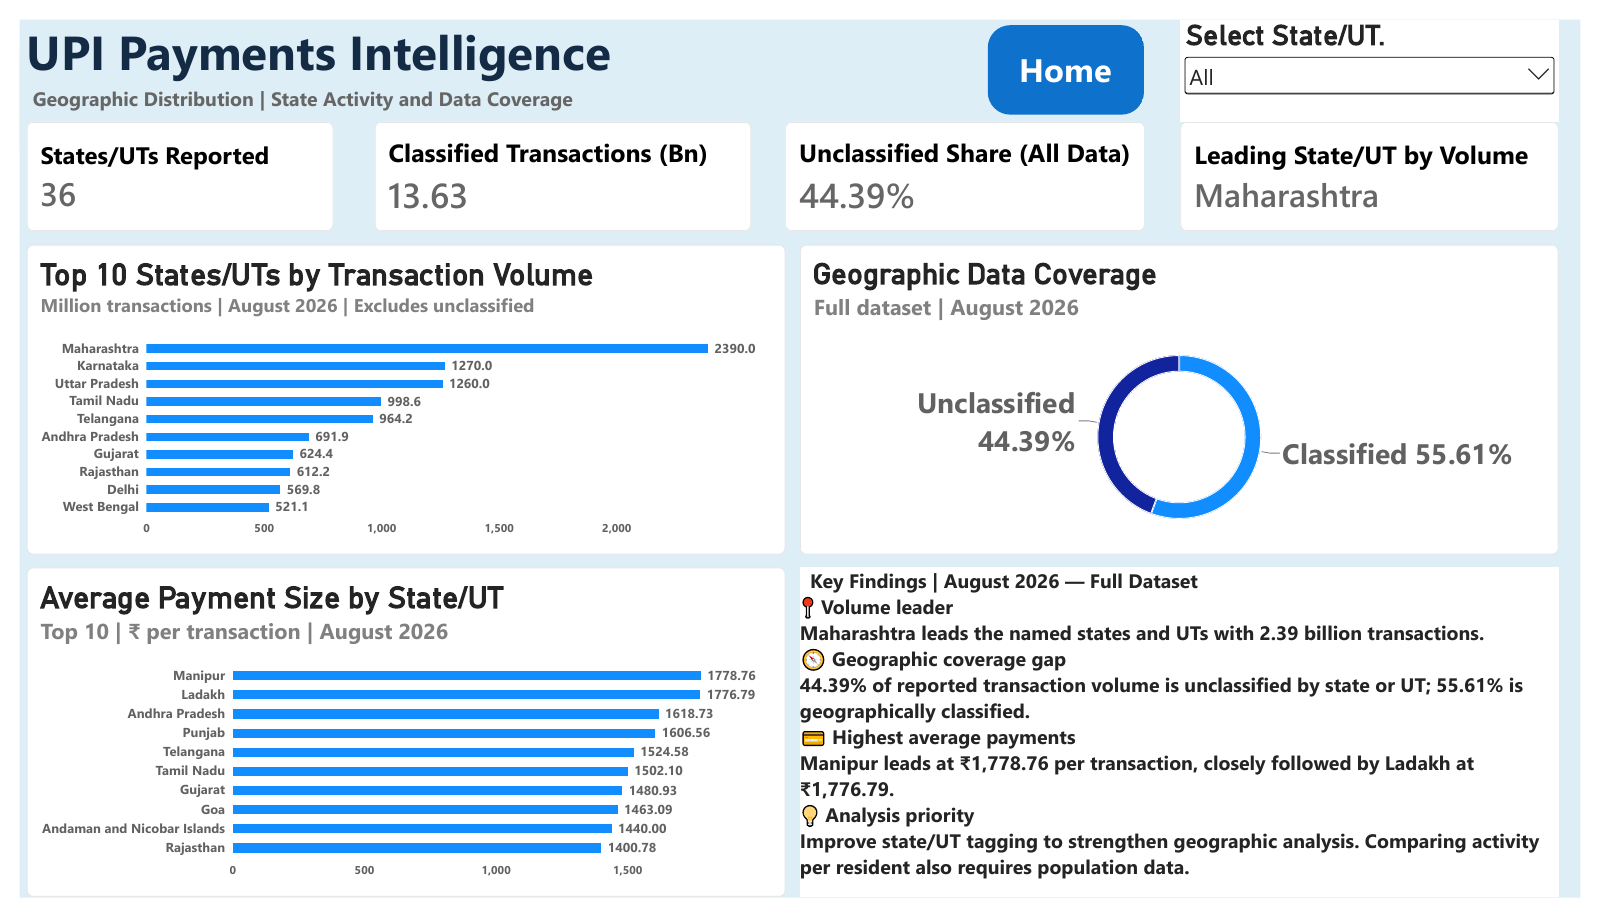

What the dashboard file says about the page in this screenshot:
{"tool":"powerbi","page":{"name":"Geographic Distribution","canvas":[1920,1080],"ordinal":4},"visuals":[{"type":"textbox","box":[9.4,0,806.5,159.4],"z":0},{"type":"clusteredBarChart","title":"Top 10 States/UTs by Transaction Volume","fields":{"Category":["fact_state.state"],"Y":["Sum(fact_state.volume_mn)"]},"box":[9.3,276.7,932.6,381.4],"z":1000},{"type":"donutChart","title":"Geographic Data Coverage","fields":{"Category":["fact_state.Geographic Status"],"Y":["Sum(fact_state.volume_mn)"]},"box":[960.5,276.7,932.6,381.4],"z":2000},{"type":"cardVisual","fields":{"Data":["fact_state.States and UTs Reported"]},"box":[9.3,125.6,376.7,134.9],"z":3000},{"type":"cardVisual","fields":{"Data":["fact_state.Classified Transactions Bn"]},"box":[437.2,125.6,462.8,134.9],"z":4000},{"type":"cardVisual","fields":{"Data":["fact_state.Unclassified Volume Share"]},"box":[941.9,125.6,441.9,134.9],"z":5000},{"type":"cardVisual","fields":{"Data":["fact_state.Leading State by Volume"]},"box":[1427.9,125.6,465.1,134.9],"z":6000},{"type":"slicer","title":"Select State/UT.","fields":{"Values":["fact_state.state"]},"box":[1427.9,0,465.1,125.6],"z":7000},{"type":"clusteredBarChart","title":"Average Payment Size by State/UT","fields":{"Category":["fact_state.state"],"Y":["fact_state.State Average Payment INR"]},"box":[9.3,674.4,932.6,404.7],"z":8000},{"type":"textbox","box":[960.5,674.4,932.6,404.7],"z":9000},{"type":"actionButton","box":[1191,7,192.2,110.2],"z":9001}]}

Visuals, with their boxes in screenshot pixels (x1, y1, x2, y2), scaled from the page's 1920x1080 canvas onto the 1600x918 screenshot:
textbox: (8, 0, 680, 135)
"Top 10 States/UTs by Transaction Volume" clusteredBarChart: (8, 235, 785, 559)
"Geographic Data Coverage" donutChart: (800, 235, 1578, 559)
cardVisual - fact_state.States and UTs Reported: (8, 107, 322, 221)
cardVisual - fact_state.Classified Transactions Bn: (364, 107, 750, 221)
cardVisual - fact_state.Unclassified Volume Share: (785, 107, 1153, 221)
cardVisual - fact_state.Leading State by Volume: (1190, 107, 1578, 221)
"Select State/UT." slicer: (1190, 0, 1578, 107)
"Average Payment Size by State/UT" clusteredBarChart: (8, 573, 785, 917)
textbox: (800, 573, 1578, 917)
actionButton: (992, 6, 1153, 100)
